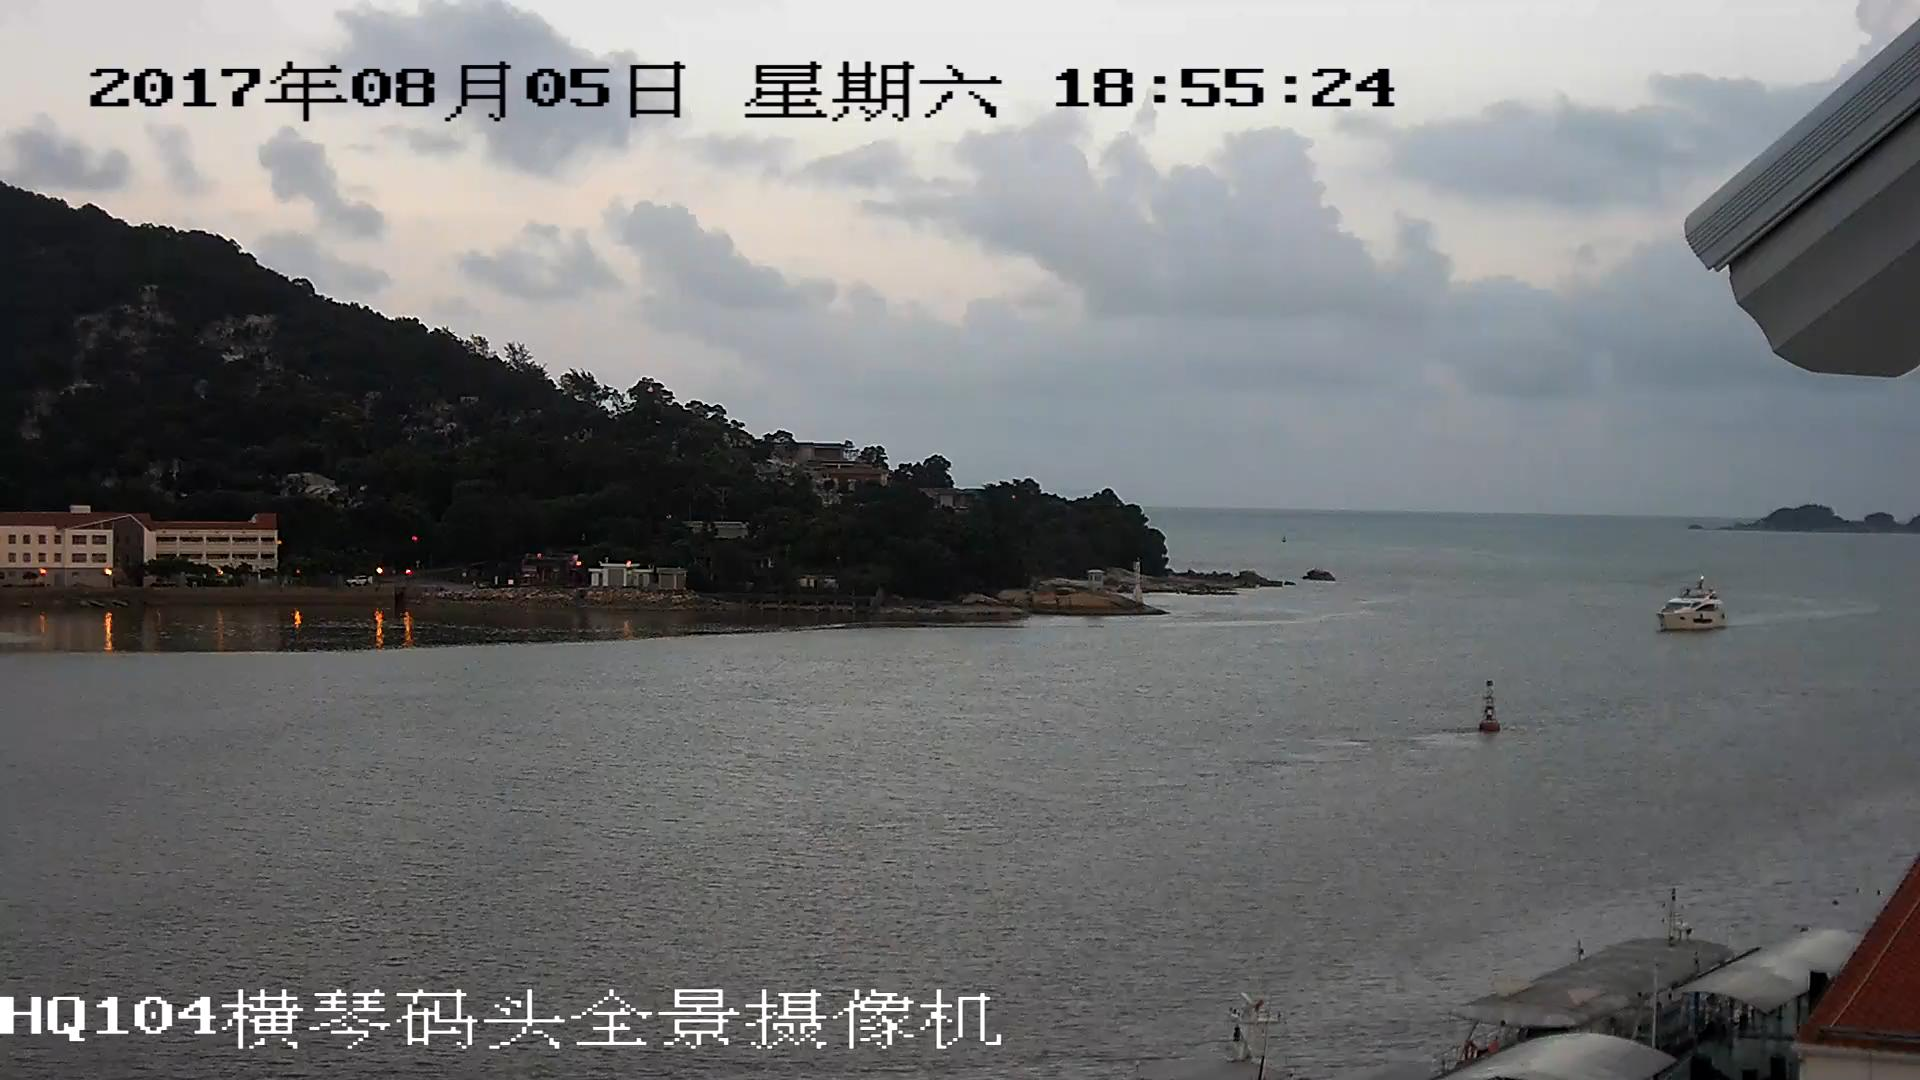passenger ship: (1657, 583, 1729, 633)
